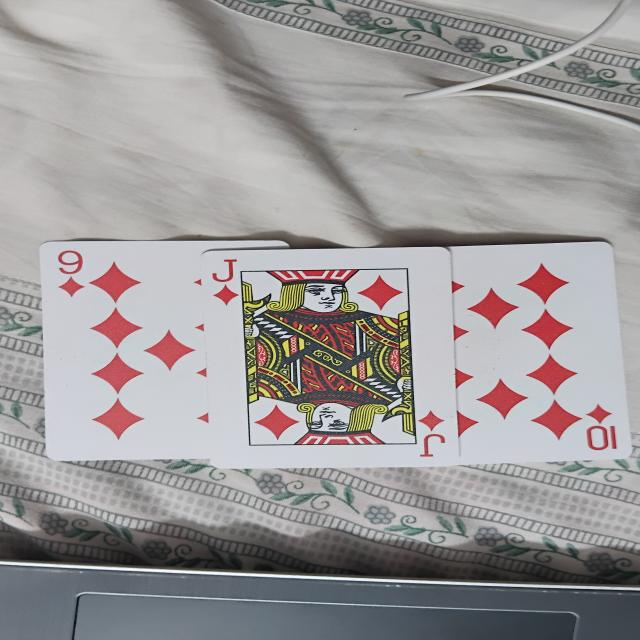10D: (454, 248, 633, 461)
9D: (42, 238, 212, 458)
JD: (209, 248, 449, 464)
